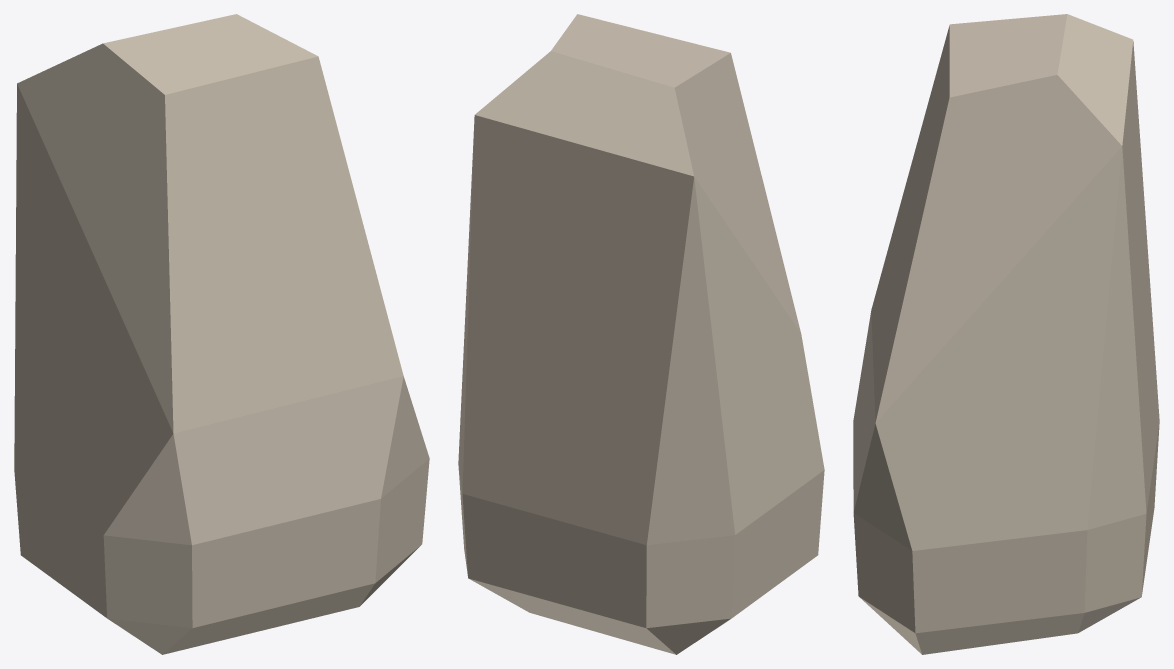
The model's file is Rock_03.fbx.
3 renders of one model, left to right at view 1: azimuth 30°, elevation 25°; view 2: azimuth 150°, elevation 25°; view 3: azimuth 270°, elevation 25°, orthographic.
Parts seen in each view (by area): view 1: Rock_03; view 2: Rock_03; view 3: Rock_03.
Part boxes in pixels (box(x1,y1,x2,y2)): Rock_03: box(14, 14, 429, 654); Rock_03: box(458, 14, 824, 654); Rock_03: box(853, 14, 1159, 654).
Bounding box in the file's own units: 39.16 × 64.41 × 32.31.
